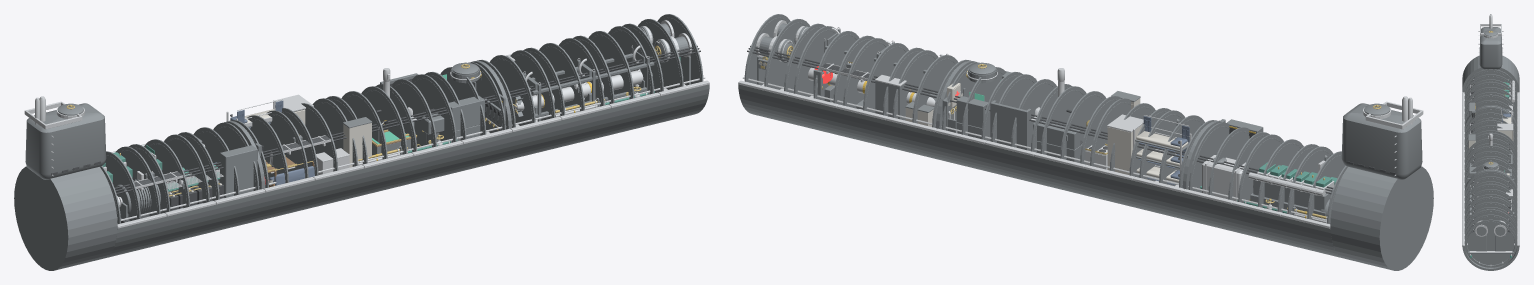
File: submarine-interior-and-control-room-cuta-12ad93fc-starter-scene__36520.glb
3 renders of one model, left to right at view 1: azimuth 30°, elevation 25°; view 2: azimuth 150°, elevation 25°; view 3: azimuth 270°, elevation 25°, orthographic. The views are drawn at different scales.
Visible parts, largest first — view 1: 000-hull-ring-section/0, 028-conning-tower-base/0, 007-hull-ring-section-cutaway/0, 011-hull-ring-section-cutaway/0, 002-hull-ring-section-cutaway/0, 010-hull-ring-section-cutaway/0, 009-hull-ring-section-cutaway/0, 012-hull-ring-section-cutaway/0, 005-hull-ring-section-cutaway/0, 004-hull-ring-section-cutaway/0, 006-hull-ring-section-cutaway/0, 008-hull-ring-section-cutaway/0 (+14 smaller); view 2: 000-hull-ring-section/0, 028-conning-tower-base/0, 011-hull-ring-section-cutaway/0, 010-hull-ring-section-cutaway/0, 012-hull-ring-section-cutaway/0, 006-hull-ring-section-cutaway/0, 003-hull-ring-section-cutaway/0, 002-hull-ring-section-cutaway/0, 009-hull-ring-section-cutaway/0, 007-hull-ring-section-cutaway/0, 004-hull-ring-section-cutaway/0, 008-hull-ring-section-cutaway/0 (+18 smaller); view 3: 012-hull-ring-section-cutaway/0, 028-conning-tower-base/0, 009-hull-ring-section-cutaway/0, 011-hull-ring-section-cutaway/0, 000-hull-ring-section/0, 007-hull-ring-section-cutaway/0, 010-hull-ring-section-cutaway/0, 001-hull-ring-section-cutaway/0, 002-hull-ring-section-cutaway/0, 006-hull-ring-section-cutaway/0, 004-hull-ring-section-cutaway/0, 003-hull-ring-section-cutaway/0 (+36 smaller).
Boxes of the visible parts, left/top/right/bottom form: 000-hull-ring-section/0: left=14, top=166, right=117, bottom=270; 028-conning-tower-base/0: left=25, top=103, right=106, bottom=179; 007-hull-ring-section-cutaway/0: left=375, top=74, right=462, bottom=186; 011-hull-ring-section-cutaway/0: left=573, top=26, right=660, bottom=137; 002-hull-ring-section-cutaway/0: left=128, top=134, right=216, bottom=246; 010-hull-ring-section-cutaway/0: left=523, top=38, right=610, bottom=149; 009-hull-ring-section-cutaway/0: left=477, top=50, right=561, bottom=161; 012-hull-ring-section-cutaway/0: left=622, top=14, right=709, bottom=125; 005-hull-ring-section-cutaway/0: left=281, top=98, right=364, bottom=210; 004-hull-ring-section-cutaway/0: left=230, top=110, right=314, bottom=221; 006-hull-ring-section-cutaway/0: left=326, top=86, right=413, bottom=198; 008-hull-ring-section-cutaway/0: left=424, top=62, right=512, bottom=173; 000-hull-ring-section/0: left=1330, top=166, right=1433, bottom=270; 028-conning-tower-base/0: left=1341, top=103, right=1422, bottom=179; 011-hull-ring-section-cutaway/0: left=787, top=26, right=874, bottom=137; 010-hull-ring-section-cutaway/0: left=837, top=38, right=924, bottom=149; 012-hull-ring-section-cutaway/0: left=738, top=14, right=825, bottom=125; 006-hull-ring-section-cutaway/0: left=1034, top=86, right=1120, bottom=198; 003-hull-ring-section-cutaway/0: left=1182, top=122, right=1269, bottom=234; 002-hull-ring-section-cutaway/0: left=1231, top=134, right=1319, bottom=246; 009-hull-ring-section-cutaway/0: left=886, top=50, right=970, bottom=161; 007-hull-ring-section-cutaway/0: left=985, top=74, right=1072, bottom=186; 004-hull-ring-section-cutaway/0: left=1133, top=110, right=1217, bottom=221; 008-hull-ring-section-cutaway/0: left=935, top=62, right=1023, bottom=173; 012-hull-ring-section-cutaway/0: left=1462, top=209, right=1519, bottom=270; 028-conning-tower-base/0: left=1479, top=27, right=1502, bottom=69; 009-hull-ring-section-cutaway/0: left=1464, top=171, right=1517, bottom=205; 011-hull-ring-section-cutaway/0: left=1464, top=196, right=1517, bottom=230; 000-hull-ring-section/0: left=1462, top=55, right=1519, bottom=92; 007-hull-ring-section-cutaway/0: left=1464, top=145, right=1517, bottom=179; 010-hull-ring-section-cutaway/0: left=1464, top=184, right=1517, bottom=217; 001-hull-ring-section-cutaway/0: left=1464, top=69, right=1517, bottom=103; 002-hull-ring-section-cutaway/0: left=1464, top=82, right=1517, bottom=115; 006-hull-ring-section-cutaway/0: left=1464, top=133, right=1517, bottom=166; 004-hull-ring-section-cutaway/0: left=1464, top=107, right=1517, bottom=141; 003-hull-ring-section-cutaway/0: left=1464, top=94, right=1517, bottom=126.
Bounding box in the file's own units: 26.35 × 6.58 × 3.83.
